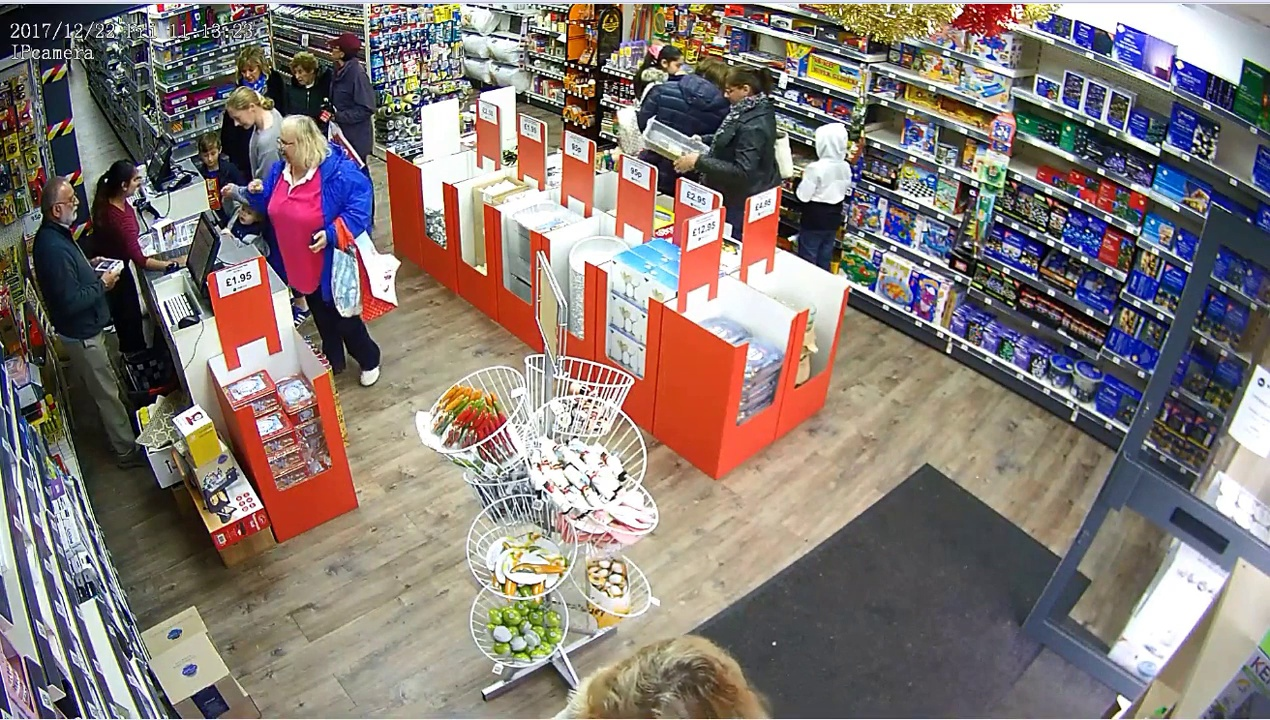face: (272, 124, 298, 164), (722, 73, 750, 110), (238, 57, 263, 85), (55, 192, 80, 220), (193, 144, 221, 167), (229, 106, 255, 129), (292, 63, 310, 86)
